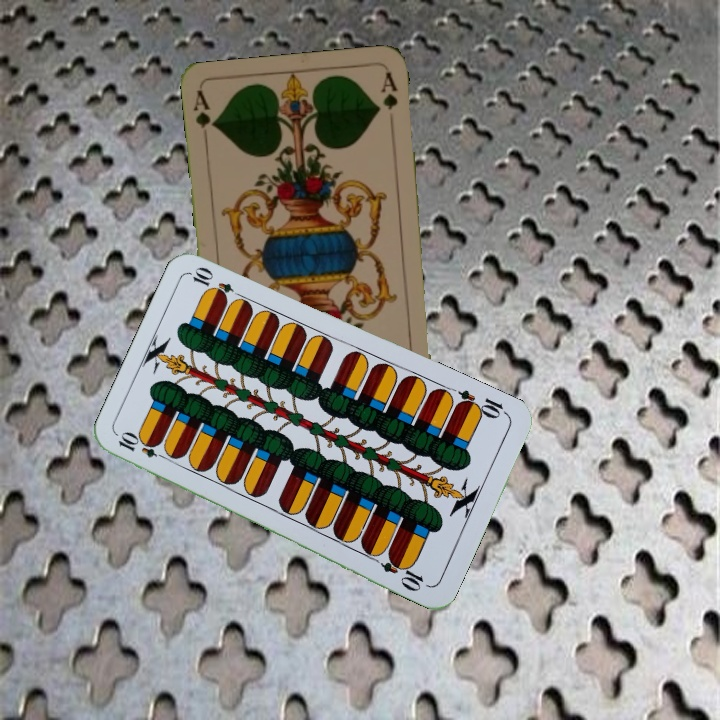E10: (452, 386, 511, 422), (114, 430, 172, 463)
GA: (189, 87, 218, 146)
